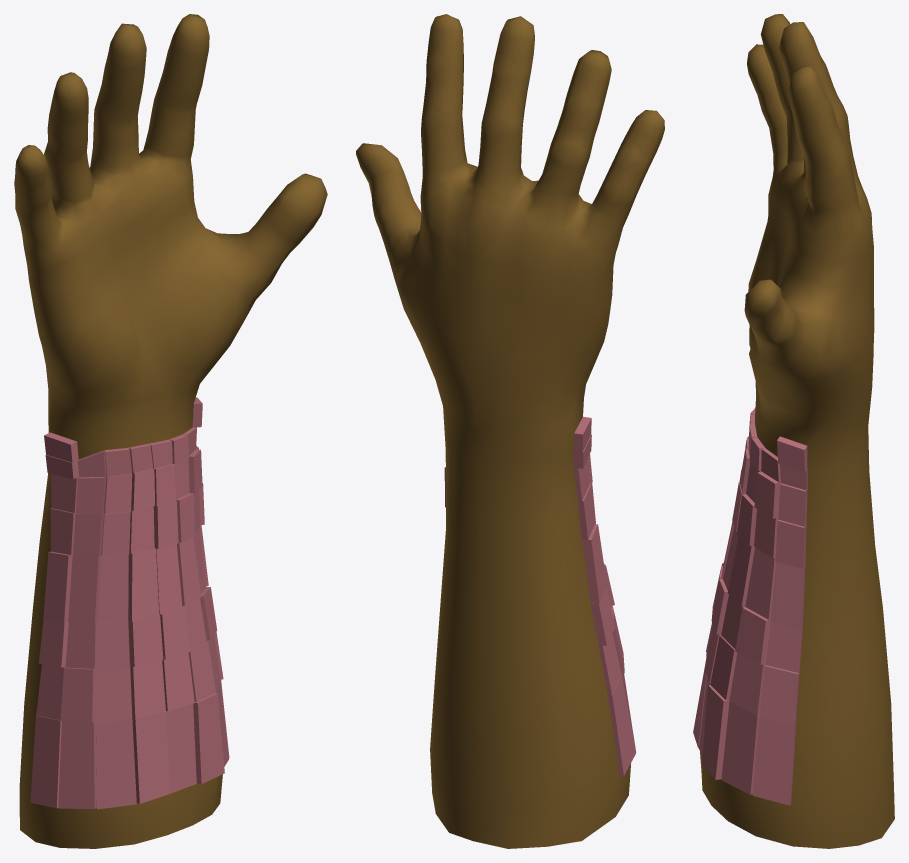
File: MobileModel.glb
3 renders of one model, left to right at view 1: azimuth 30°, elevation 25°; view 2: azimuth 150°, elevation 25°; view 3: azimuth 270°, elevation 25°, orthographic.
Visible parts, largest first — view 1: Mhand; view 2: Mhand; view 3: Mhand.
Boxes of the visible parts, left/top/right/bottom form: Mhand: left=14, top=14, right=327, bottom=848; Mhand: left=356, top=14, right=664, bottom=848; Mhand: left=693, top=14, right=894, bottom=848.
Bounding box in the file's own units: 0.8428 × 2.09 × 0.4772.
